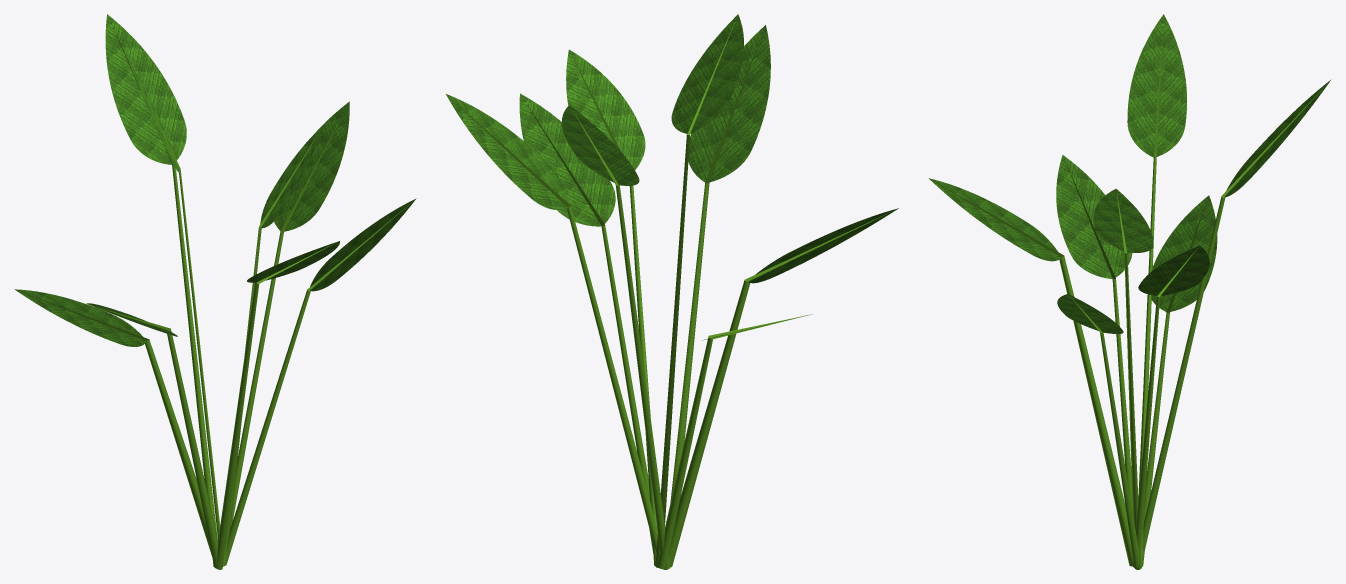
File: plant2.dae
3 views of the same model, side by side, from view 1: azimuth 30°, elevation 25°; view 2: azimuth 150°, elevation 25°; view 3: azimuth 270°, elevation 25° (orthographic). The views are drawn at different scales.
Parts seen in each view (by area): view 1: Group18, Group11, Group28, Group25, Group17, Group20, Group13, Group24, Group7, Group10, Group27, Group3 (+3 smaller); view 2: Group21, Group25, Group4, Group11, Group7, Group18, Group13, Group17, Group10, Group3, Group20, Group27 (+3 smaller); view 3: Group4, Group14, Group28, Group21, Group7, Group20, Group17, Group11, Group18, Group6, Group10, Group3 (+4 smaller).
Part boxes in pixels (left/top/right/bottom): Group18: left=105, top=14, right=186, bottom=164; Group11: left=274, top=101, right=349, bottom=231; Group28: left=15, top=289, right=146, bottom=346; Group25: left=310, top=198, right=416, bottom=291; Group17: left=172, top=164, right=217, bottom=567; Group20: left=216, top=282, right=259, bottom=569; Group13: left=167, top=329, right=217, bottom=568; Group24: left=225, top=290, right=310, bottom=565; Group7: left=260, top=124, right=324, bottom=228; Group10: left=223, top=231, right=283, bottom=566; Group27: left=145, top=340, right=212, bottom=557; Group3: left=179, top=169, right=220, bottom=539; Group21: left=688, top=25, right=770, bottom=182; Group25: left=519, top=93, right=615, bottom=226; Group4: left=671, top=14, right=743, bottom=133; Group11: left=446, top=94, right=567, bottom=209; Group7: left=566, top=49, right=645, bottom=169; Group18: left=562, top=105, right=639, bottom=185; Group13: left=668, top=280, right=750, bottom=567; Group17: left=615, top=185, right=670, bottom=569; Group10: left=567, top=206, right=657, bottom=552; Group3: left=655, top=135, right=689, bottom=567; Group20: left=670, top=183, right=709, bottom=502; Group27: left=657, top=337, right=712, bottom=569; Group4: left=1127, top=14, right=1186, bottom=157; Group14: left=1056, top=155, right=1132, bottom=279; Group28: left=1151, top=195, right=1217, bottom=311; Group21: left=929, top=178, right=1060, bottom=261; Group7: left=1093, top=189, right=1153, bottom=252; Group20: left=1059, top=256, right=1133, bottom=566; Group17: left=1142, top=197, right=1225, bottom=551; Group11: left=1138, top=245, right=1209, bottom=295; Group18: left=1224, top=79, right=1331, bottom=197; Group6: left=1124, top=252, right=1141, bottom=569; Group10: left=1132, top=296, right=1159, bottom=567; Group3: left=1138, top=156, right=1156, bottom=568.
Bounding box in the file's own units: 12.14 × 12.84 × 18.06.
2 materials, 1 textured.
